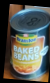beans: (9, 8, 49, 80)
